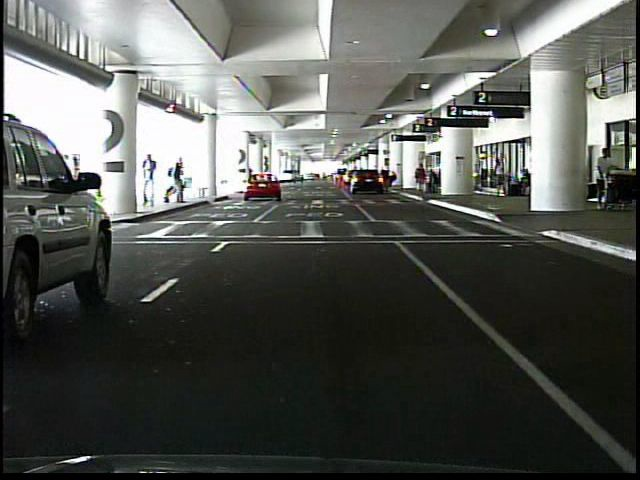person: (142, 153, 158, 208), (162, 170, 186, 205), (167, 159, 185, 203), (595, 145, 615, 175), (412, 163, 427, 195), (493, 159, 505, 198), (432, 167, 433, 193)
